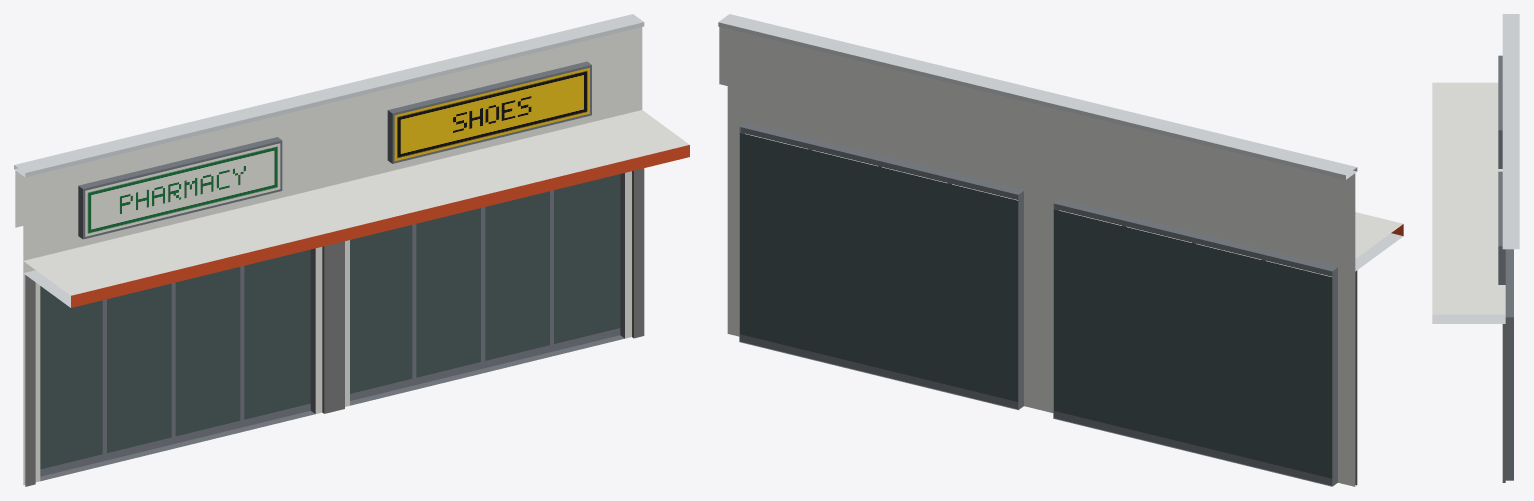
3 views of the same model, side by side, from view 1: azimuth 30°, elevation 25°; view 2: azimuth 150°, elevation 25°; view 3: azimuth 270°, elevation 25° (orthographic). The views are drawn at different scales.
Parts seen in each view (by area): view 1: a2003/400/base-w1; view 2: a2003/400/base-w1; view 3: a2003/400/base-w1.
Part boxes in pixels (bbox=[...]): a2003/400/base-w1: bbox=[14, 14, 689, 486]; a2003/400/base-w1: bbox=[718, 14, 1403, 486]; a2003/400/base-w1: bbox=[1432, 14, 1519, 482].
Size of the model in its own units: 9 by 4.36 by 1.43.
